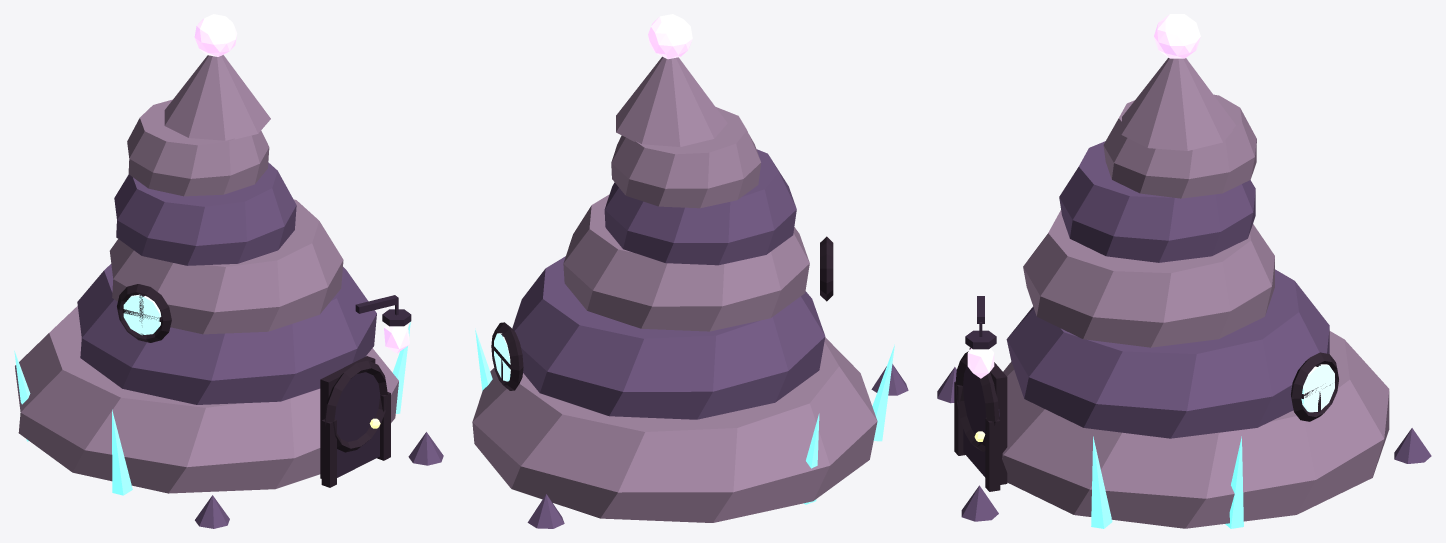
File: maison_coquillage_modele.glb
3 views of the same model, side by side, from view 1: azimuth 30°, elevation 25°; view 2: azimuth 150°, elevation 25°; view 3: azimuth 270°, elevation 25° (orthographic). The views are drawn at different scales.
Parts seen in each view (by area): view 1: L1.002, L3.001, L5, L7.001, L9, P11.009, P17.006, P18.008, P12.009, P23.008, P22.006, P19.008 (+8 smaller); view 2: L1.002, L3.001, L5, L7.001, L9, P11.009, P12.009, P27.007, P33.003, P23.008, P35.002, P26.007; view 3: L1.002, L3.001, L5, L7.001, L9, P11.009, P12.009, P18.008, P27.007, P26.007, P20.006, P30.004 (+6 smaller).
Boxes of the visible parts, x1,y1,x2,y2 form: L1.002: (15,306,398,493); L3.001: (77,264,376,404); L5: (109,199,343,334); L7.001: (114,162,296,265); L9: (127,99,269,196); P11.009: (164,55,270,140); P17.006: (334,372,380,441); P18.008: (324,360,387,452); P12.009: (194,14,237,56); P23.008: (117,284,171,342); P22.006: (123,294,161,335); P19.008: (321,419,336,487); L1.002: (472,337,877,522); L3.001: (512,256,825,419); L5: (563,194,809,331); L7.001: (604,149,796,265); L9: (611,107,761,208); P11.009: (616,56,727,146); P12.009: (648,14,692,59); P27.007: (491,322,523,390); P33.003: (872,344,894,441); P23.008: (820,236,833,301); P35.002: (527,494,564,528); P26.007: (494,333,510,381); L1.002: (1002,331,1389,528); L3.001: (1006,269,1329,438); L5: (1023,210,1274,347); L7.001: (1059,141,1255,262); L9: (1103,94,1256,198); P11.009: (1121,58,1235,150); P12.009: (1154,14,1200,58); P18.008: (955,351,999,451); P27.007: (1291,352,1338,421); P26.007: (1301,364,1334,412); P20.006: (985,418,1000,491); P30.004: (1091,436,1112,528).
Bounding box in the file's own units: 2.12 × 2.45 × 2.52.
